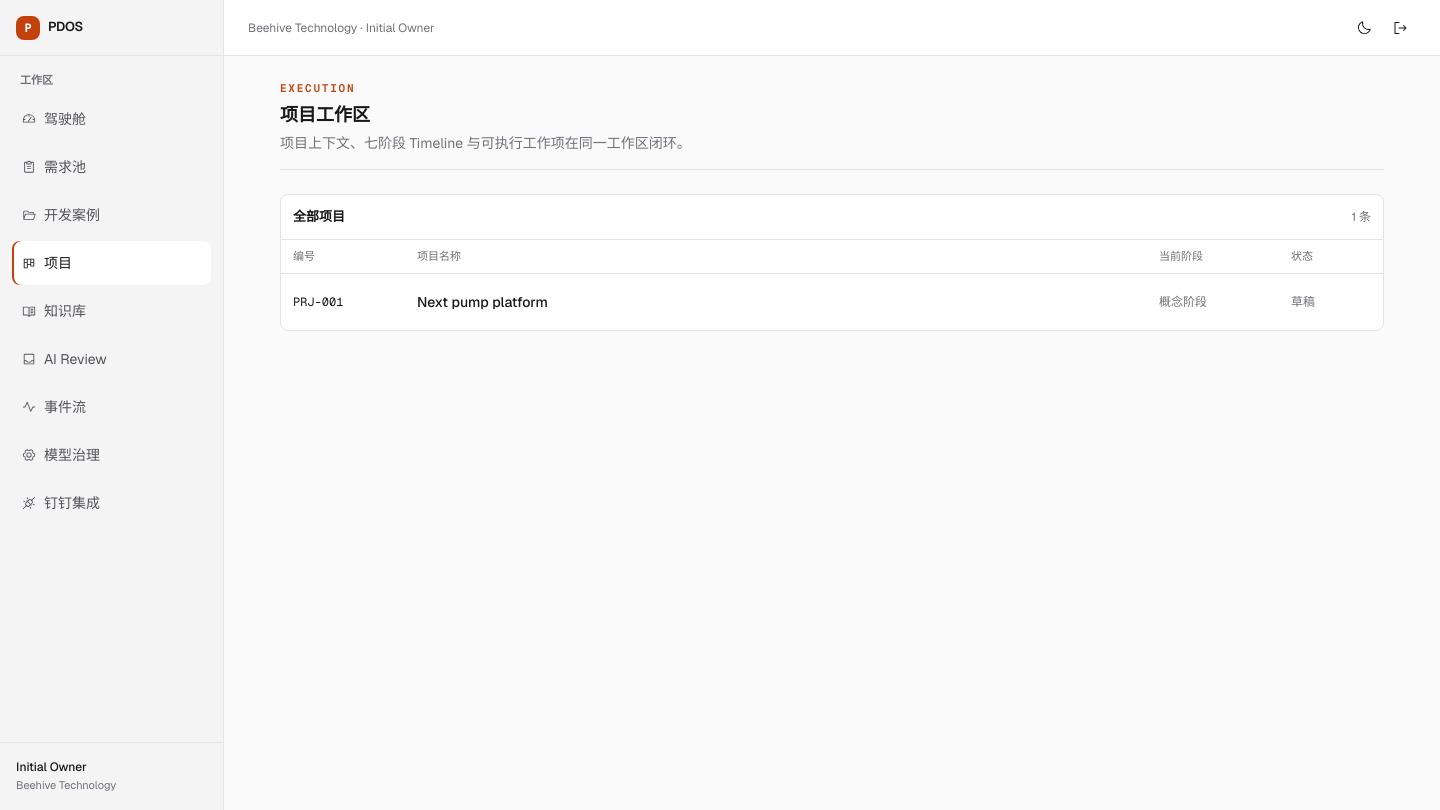
Test: ProjectWorkspace › renders the seven-stage timeline and edits with a minimal PATCH
The width and height of the screenshot is (1440, 810).
Click the button with aria-label "打开项目 PRJ-001". click: (318, 302)
box: [281,274,1383,330]
(page scrolled)
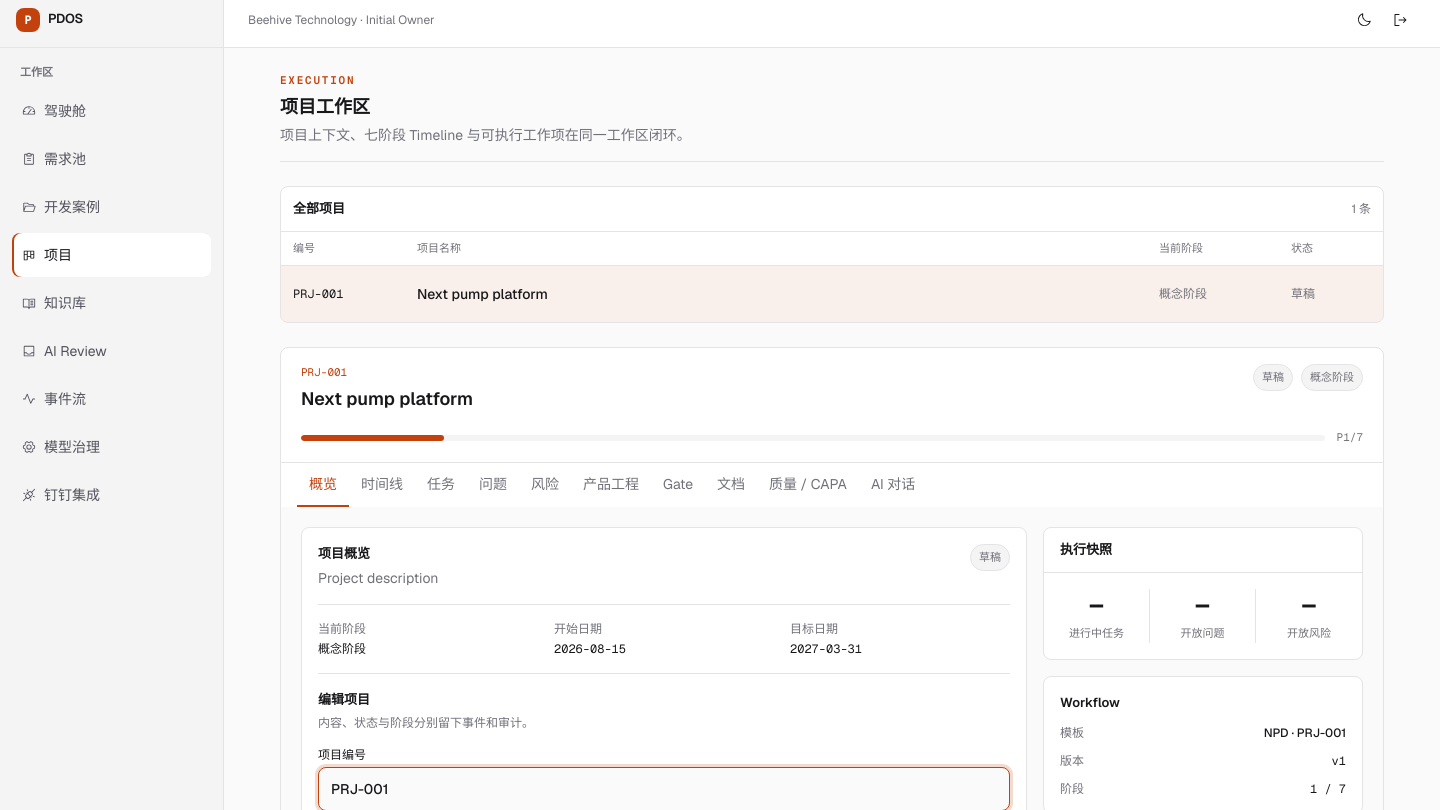
Click the tab "时间线". click: (382, 485)
box: [349,463,415,507]
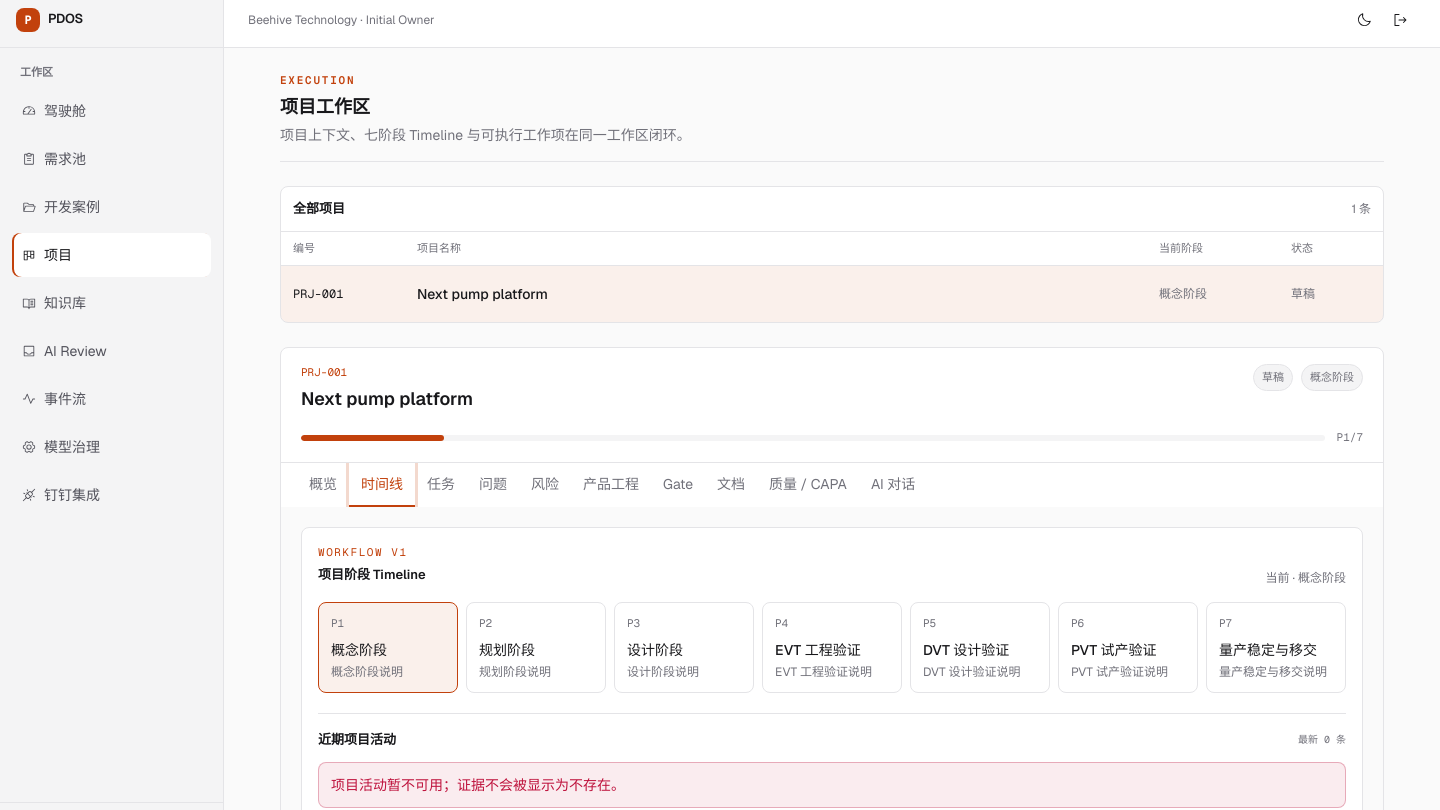
Now the text "规划阶段" is shown, box [479,641,535,659]
Now the text "设计阶段" is shown, box [627,641,683,659]
Now the text "EVT 工程验证" is shown, box [775,641,861,659]
Click the tab "概览". click: (323, 485)
box: [297,463,349,507]
(page scrolled)
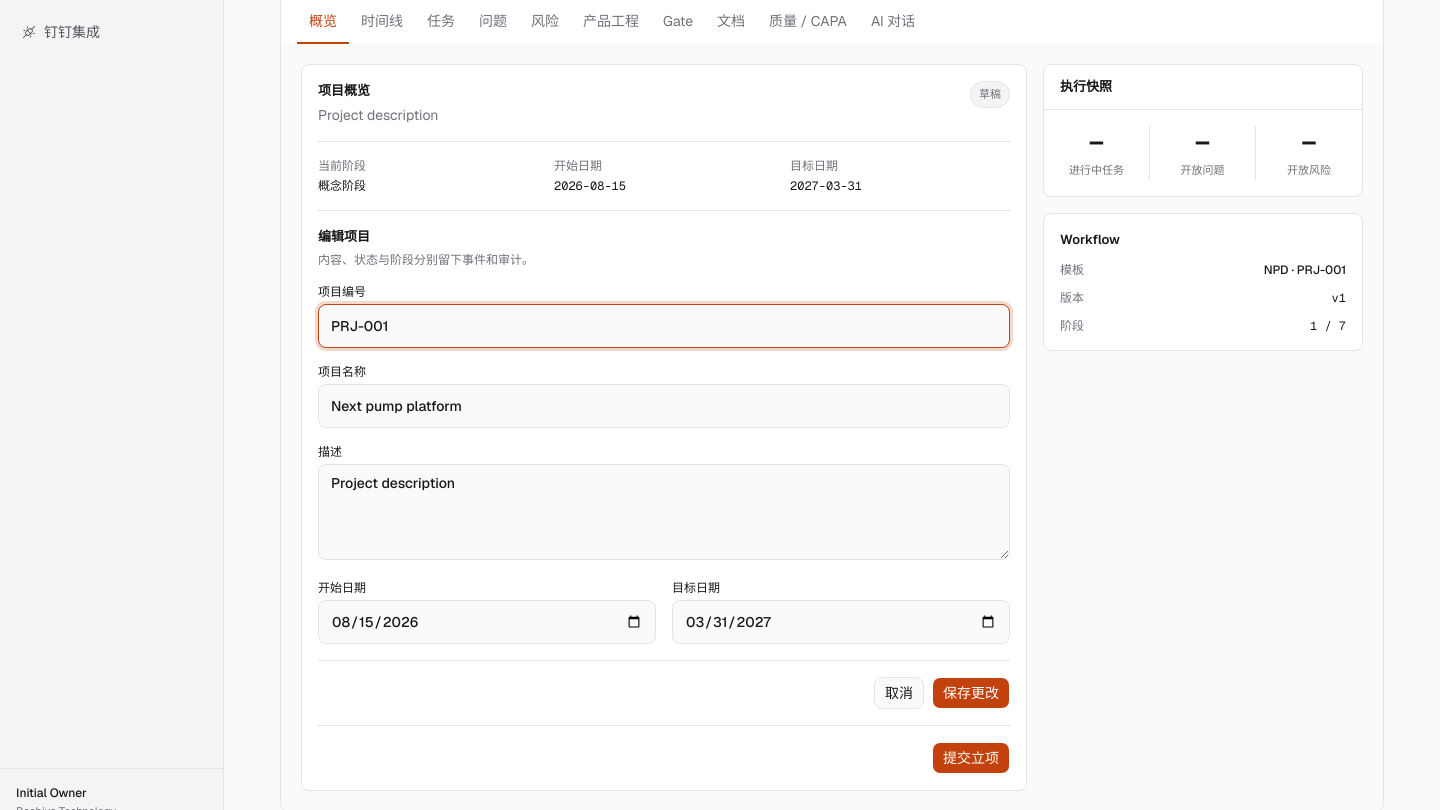
Replace the text in the field labelled "项目名称" with "Updated pump platform". click: (664, 406)
box: [318,384,1010,428]
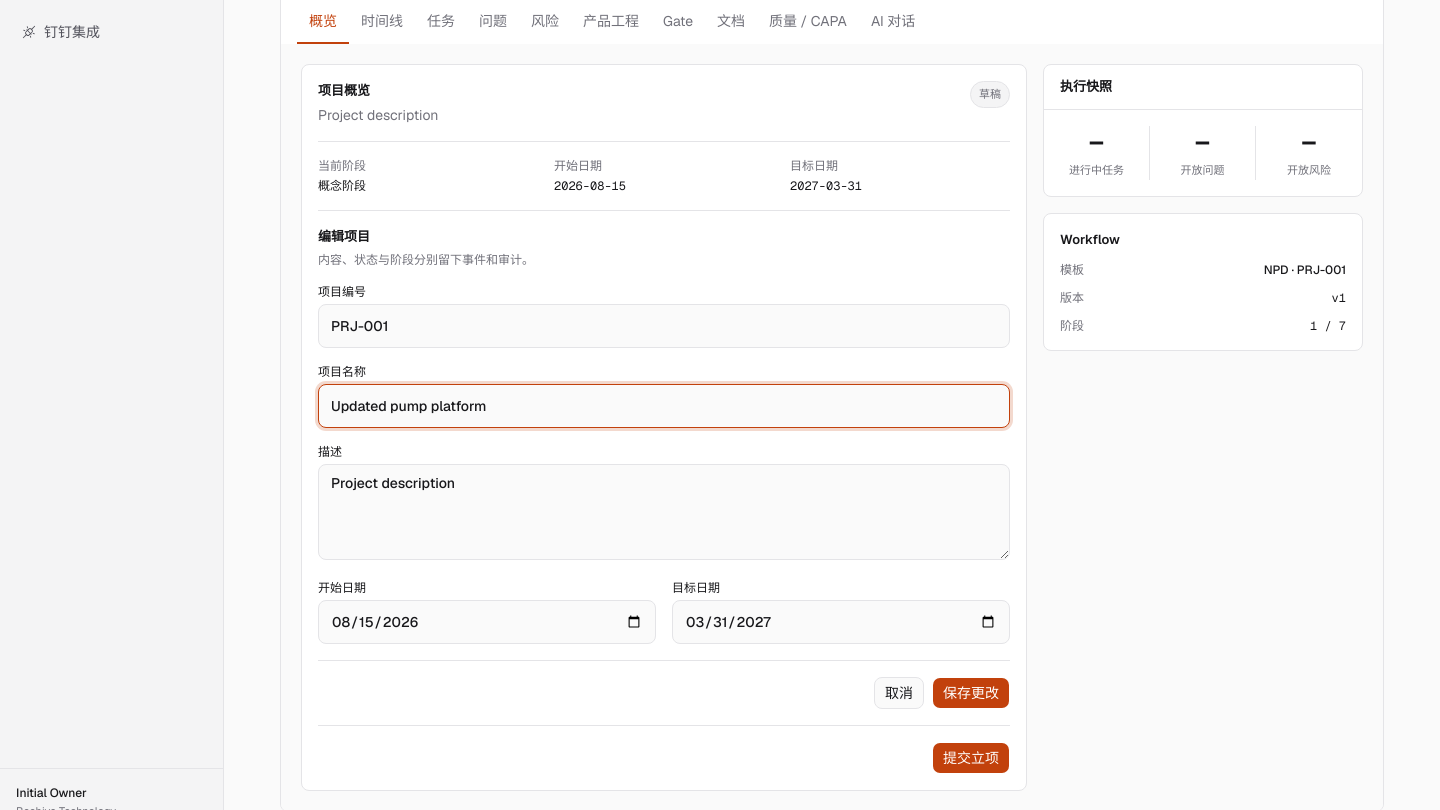
Click the button "保存更改". click: (971, 693)
box: [932,677,1010,709]
(page scrolled)
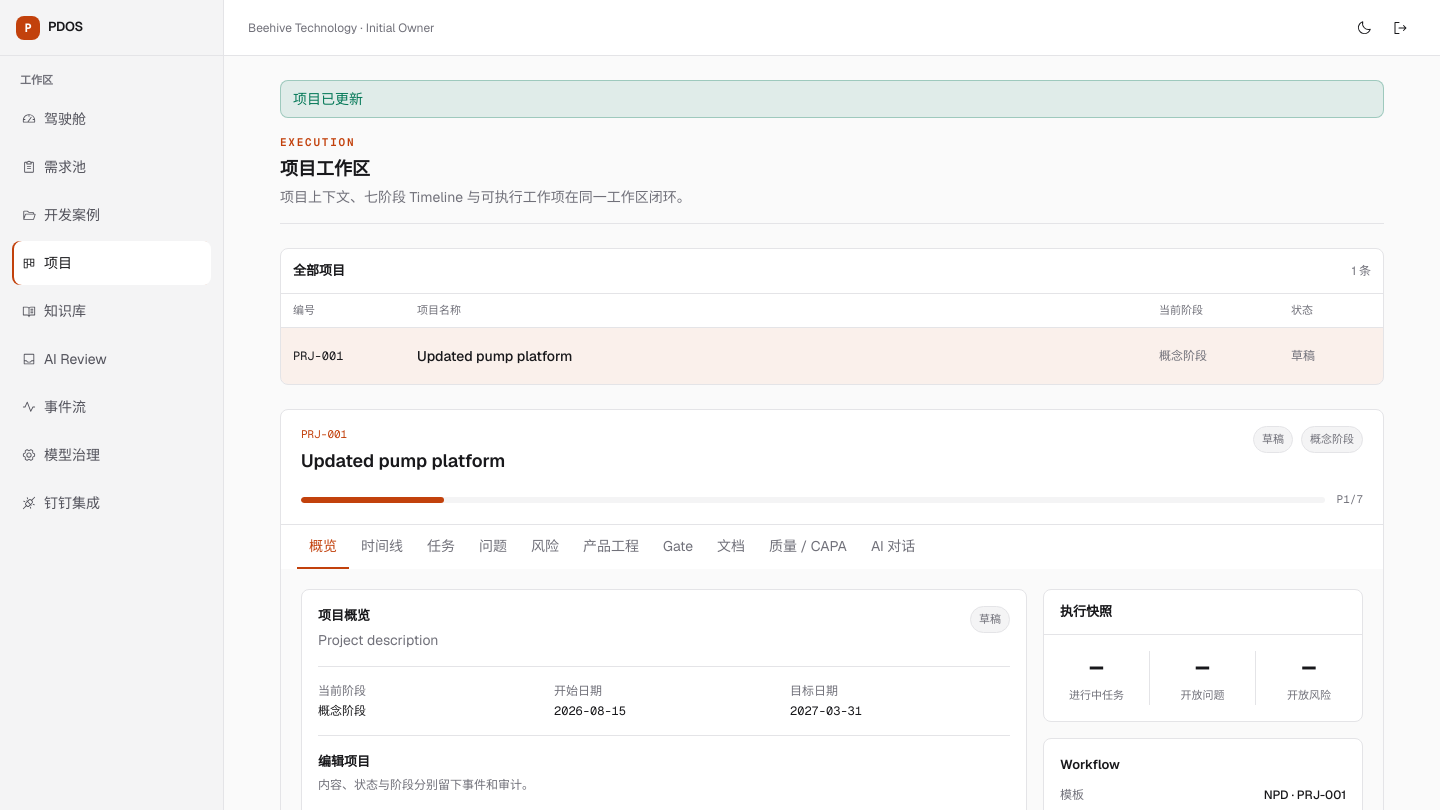
Now the message reads "项目已更新", box [293,90,363,108]
